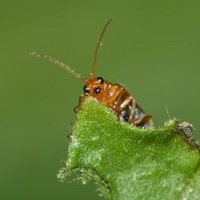insect: (30, 19, 152, 127)
